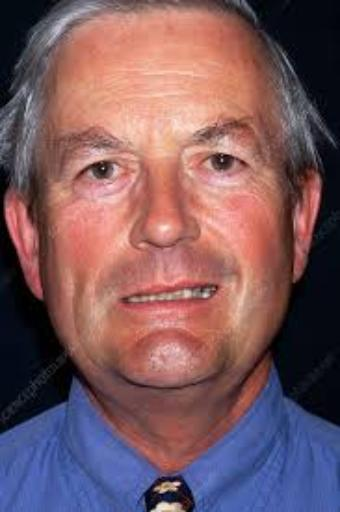left_eye: (194, 152, 252, 183)
left_lip_corner: (206, 276, 233, 302)
right_eye: (75, 156, 134, 189)
right_lip_corner: (111, 291, 133, 314)
